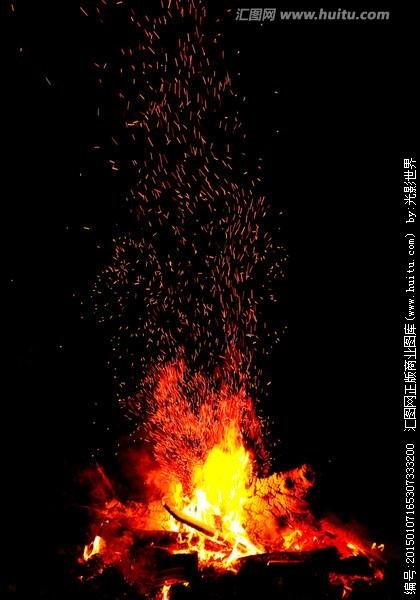fire: (150, 423, 263, 572)
